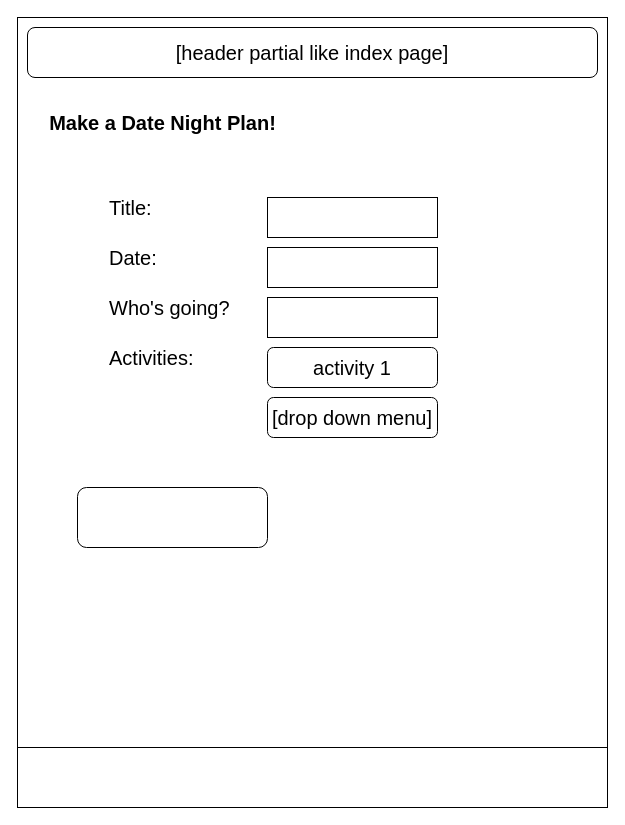
This 625x825 diagram has some shape labels left out. The shapes that lost their labels are listed below. From the top down, each one's centre as x and y in pixels, then its label:
At point (172, 517): "Save Date Night!".
At point (312, 777): "[footer partial like index page]".
